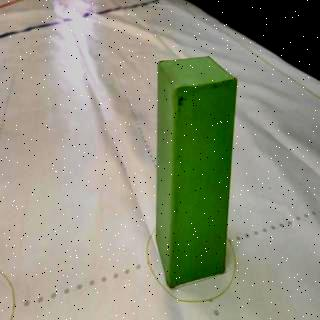greenbox: (156, 52, 238, 288)
